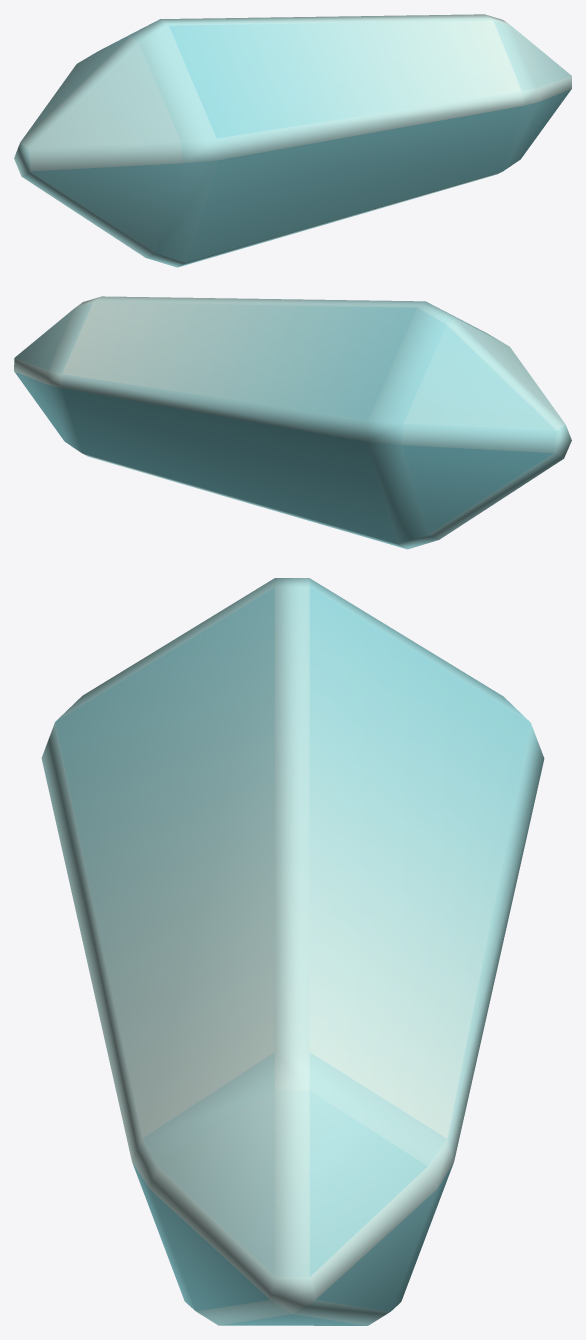
File: christal_diamond_2.fbx
The picture shows the model from 3 angles, top to bottom: view 1: azimuth 30°, elevation 25°; view 2: azimuth 150°, elevation 25°; view 3: azimuth 270°, elevation 25°; orthographic projection. The views are drawn at different scales.
Visible parts, largest first — view 1: christal_diamond_2; view 2: christal_diamond_2; view 3: christal_diamond_2.
Boxes of the visible parts, box(x1,y1,x2,y2) form: christal_diamond_2: box(14, 14, 571, 267); christal_diamond_2: box(14, 296, 571, 549); christal_diamond_2: box(41, 578, 544, 1325).
Size of the model in its own units: 86.4 by 32.67 by 34.49.
1 material, 1 textured.
